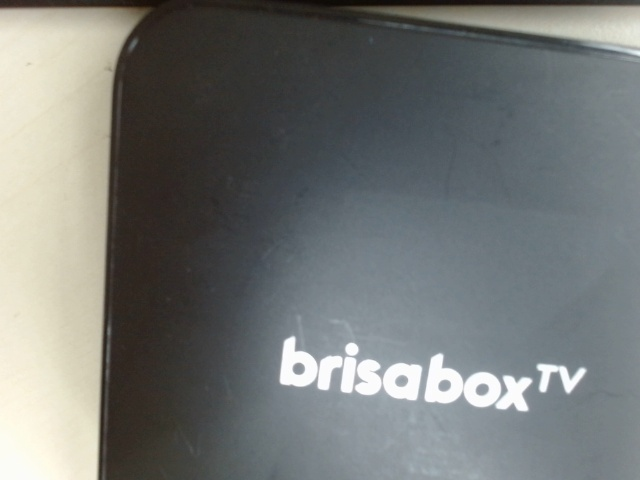AH_brisabox: (277, 327, 594, 420)
